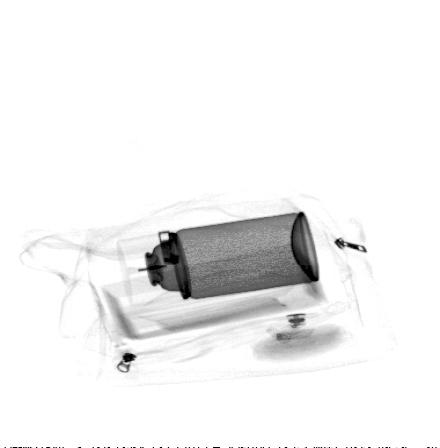Sprayer: (116, 210, 321, 310)
